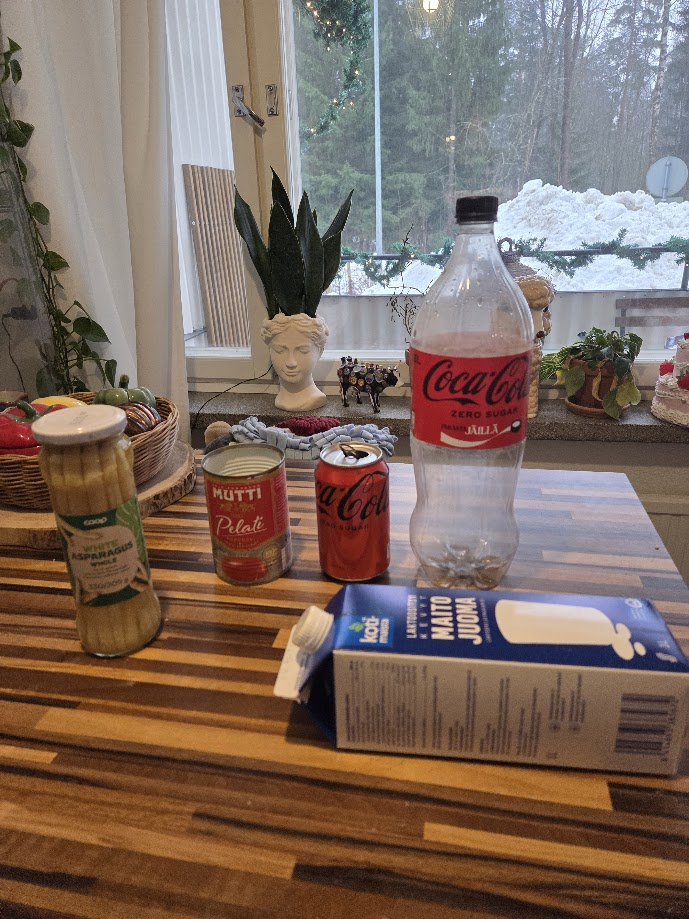Dryckeskartong: (271, 583, 689, 775)
Konservburk: (200, 443, 295, 586)
Pantburk: (314, 440, 390, 581)
